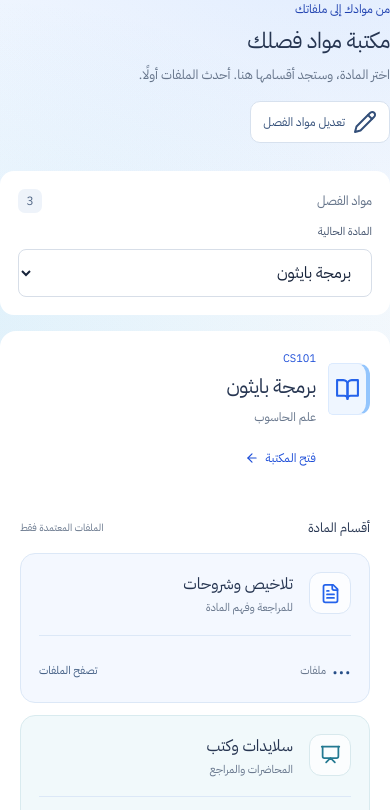
semester library workspace › shows a useful unlinked state without requesting any private-course counts
This screenshot has width=390, height=810.
Later steps or results of the test are not shown.
Select "مادة خاصة — غير مرتبطة" in the dropdown labelled "المادة الحالية" at (195, 273), box left=18, top=249, right=372, bottom=297
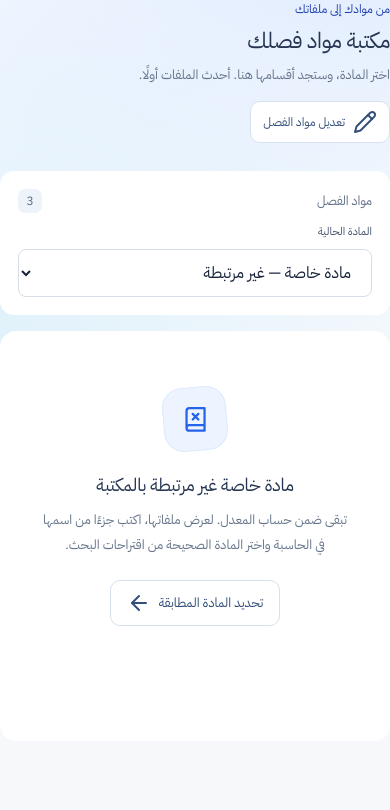
Expected: the link "تلاخيص وشروحات" is gone
